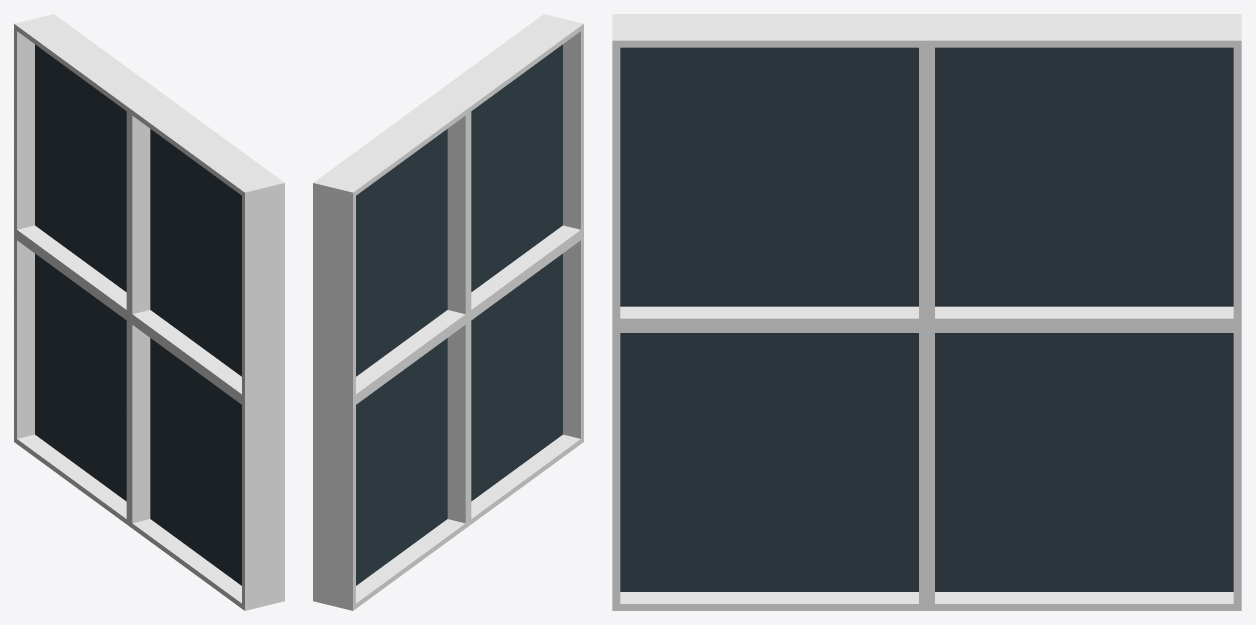
File: Janela2x2.fbx
The picture shows the model from 3 angles, left to right: view 1: azimuth 30°, elevation 25°; view 2: azimuth 150°, elevation 25°; view 3: azimuth 270°, elevation 25°; orthographic projection. The views are drawn at different scales.
Visible parts, largest first — view 1: Janela2x2; view 2: Janela2x2; view 3: Janela2x2.
Part boxes in pixels (<box>): Janela2x2: <box>14,14,284,610</box>; Janela2x2: <box>313,14,583,610</box>; Janela2x2: <box>612,14,1241,610</box>.
Bounding box in the file's own units: 20 × 200 × 200.
